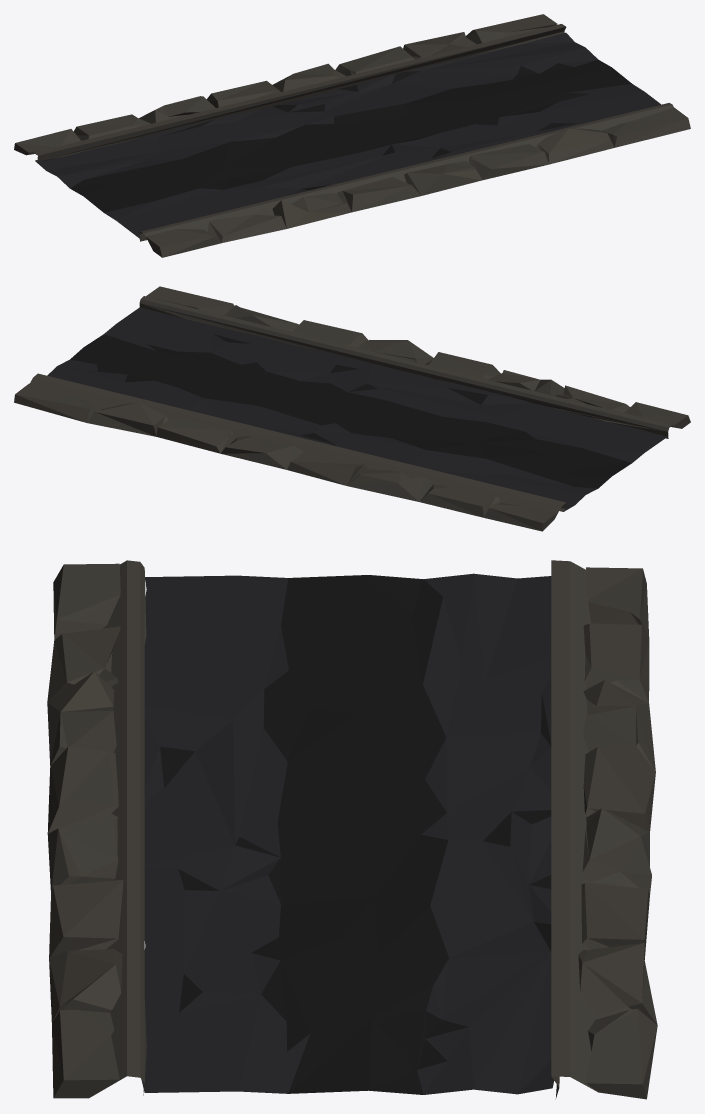
The model's file is asphalt.fbx.
3 views of the same model, one above another, from view 1: azimuth 30°, elevation 25°; view 2: azimuth 150°, elevation 25°; view 3: azimuth 270°, elevation 25° (orthographic). The views are drawn at different scales.
Parts seen in each view (by area): view 1: asphalt; view 2: asphalt; view 3: asphalt.
Part boxes in pixels (x1=…): asphalt: x1=14, y1=14, x2=690, y2=257; asphalt: x1=14, y1=286, x2=690, y2=531; asphalt: x1=47, y1=560, x2=657, y2=1099.
Bounding box in the file's own units: 2000 × 76.92 × 1000.
